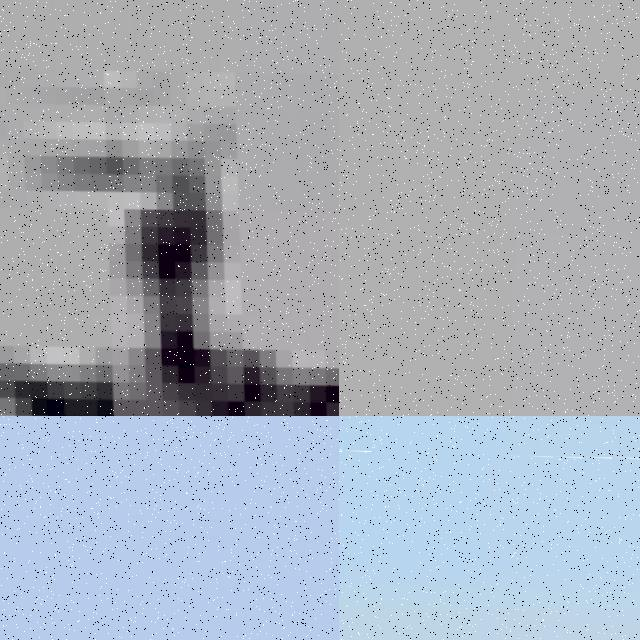drone: (0, 0, 339, 416), (339, 416, 640, 466)
